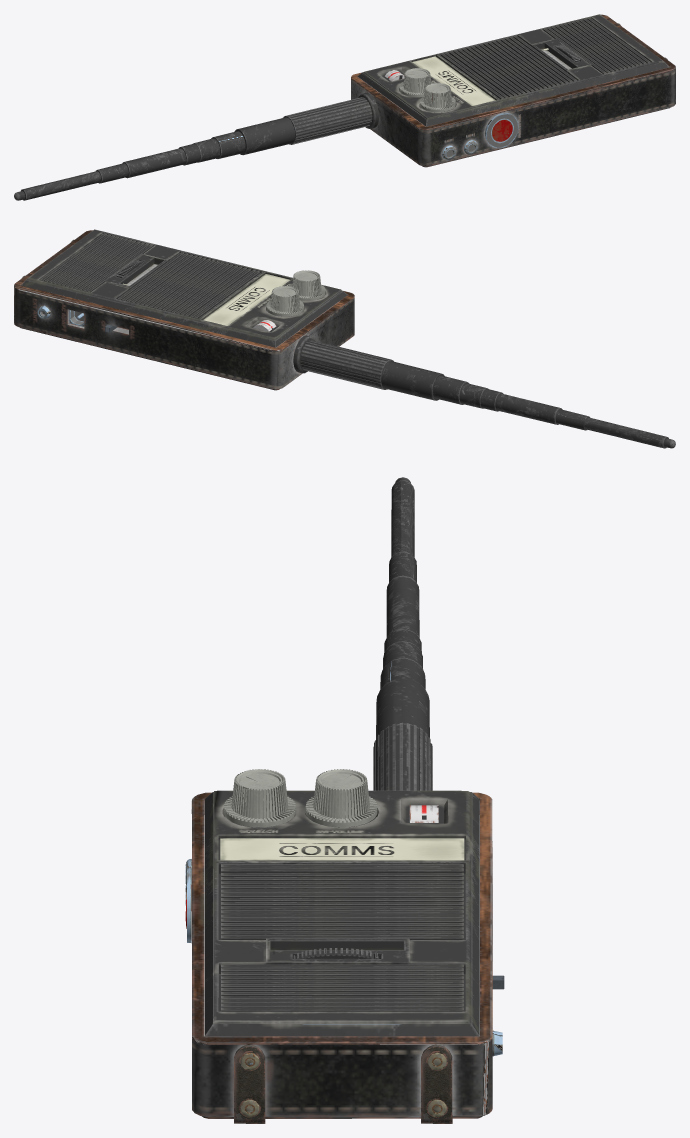
File: Waklie-Talkie.fbx
The picture shows the model from 3 angles, top to bottom: view 1: azimuth 30°, elevation 25°; view 2: azimuth 150°, elevation 25°; view 3: azimuth 270°, elevation 25°; orthographic projection. The views are drawn at different scales.
Visible parts, largest first — view 1: Walkie Talkie; view 2: Walkie Talkie; view 3: Walkie Talkie.
Boxes of the visible parts, x1,y1,x2,y2 form: Walkie Talkie: (14, 14, 675, 200); Walkie Talkie: (14, 229, 675, 448); Walkie Talkie: (185, 477, 504, 1123).
Bounding box in the file's own units: 1244 × 147 × 280.
Materials: 1 (1 with a texture image).
